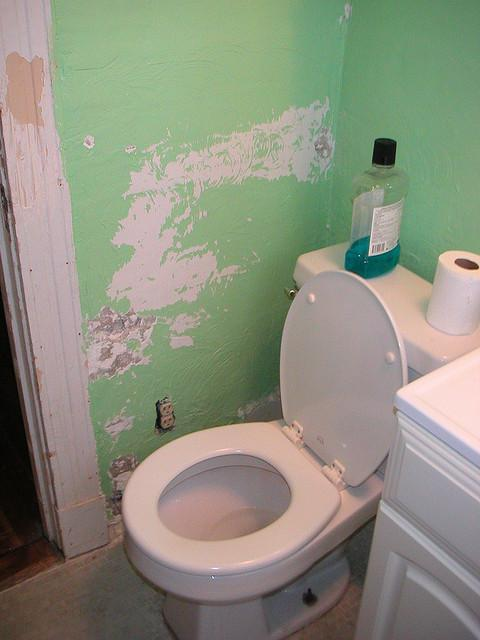Sanitario: (120, 238, 479, 639)
